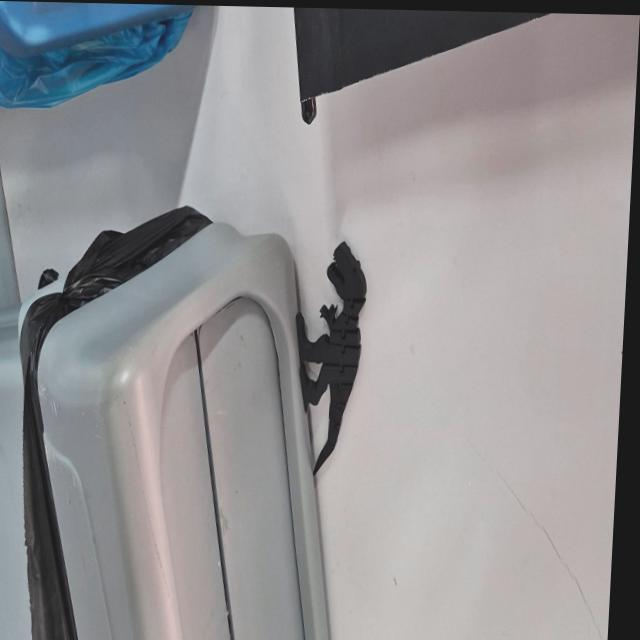dino: (288, 238, 370, 477)
